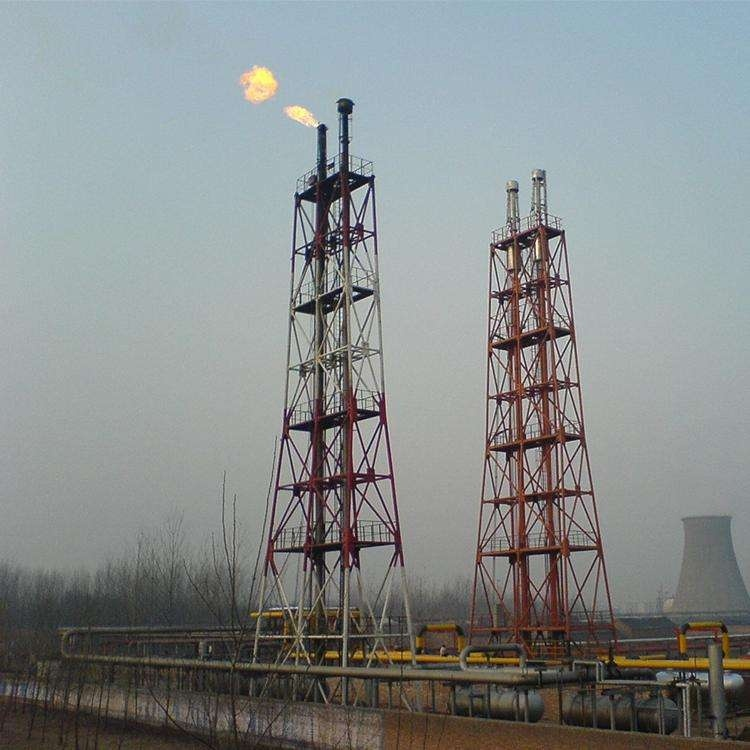fire: (238, 64, 277, 105), (286, 101, 318, 125)
